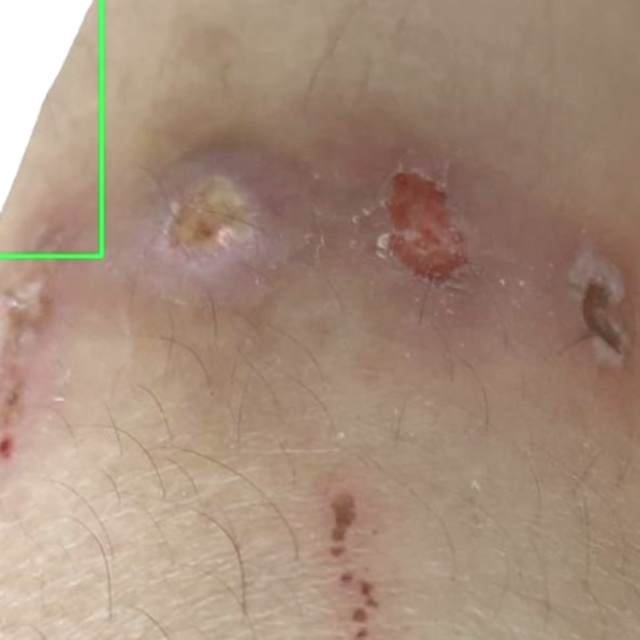Contact Dermatitis: (0, 0, 101, 256)
